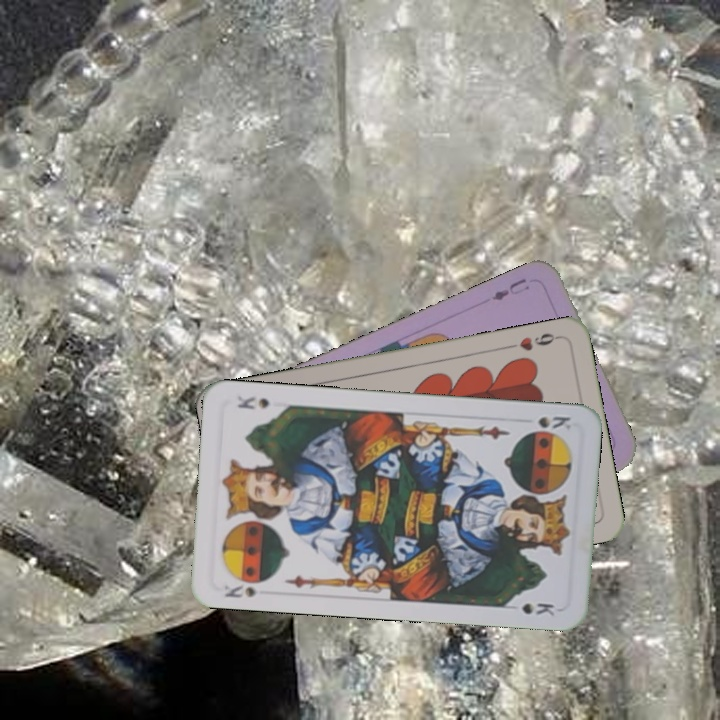EU: (487, 274, 532, 303)
H9: (505, 329, 564, 354)
SK: (534, 412, 574, 433), (220, 580, 259, 600)
